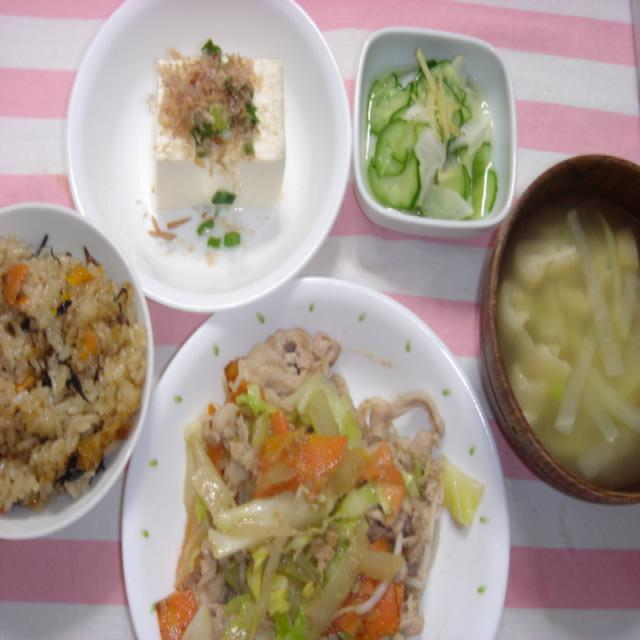蔬菜料理: (148, 330, 518, 640)
